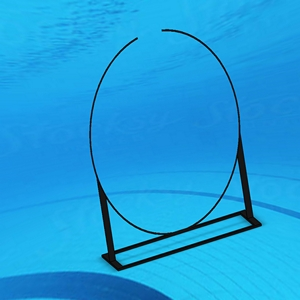circle: (87, 27, 264, 274)
